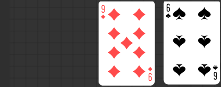6S: (212, 64, 219, 81)
9D: (147, 66, 154, 83)
